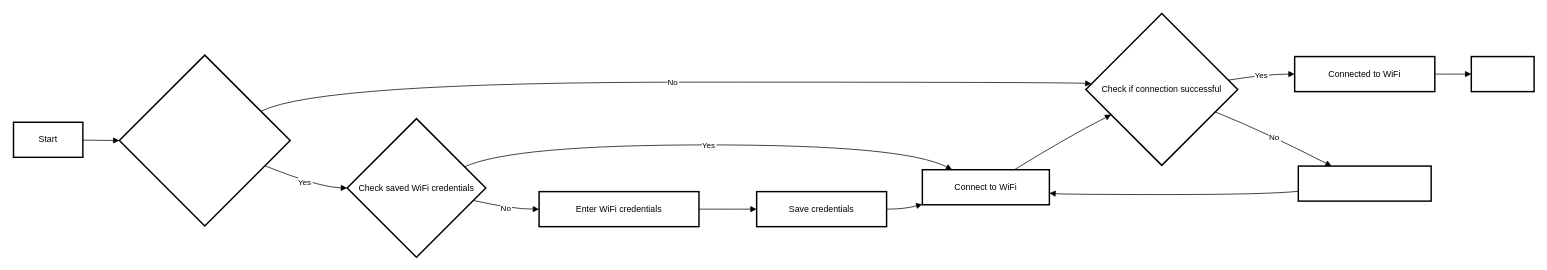
Image size: 1547x270. Some labels were removed from this diagram. Here are the shapes that lost their labels. From the top down, the centre of each, then its label:
At point 1502,73: "End".
At point 204,140: "Check if WiFi module is present".
At point 1364,183: "Retry connection".
